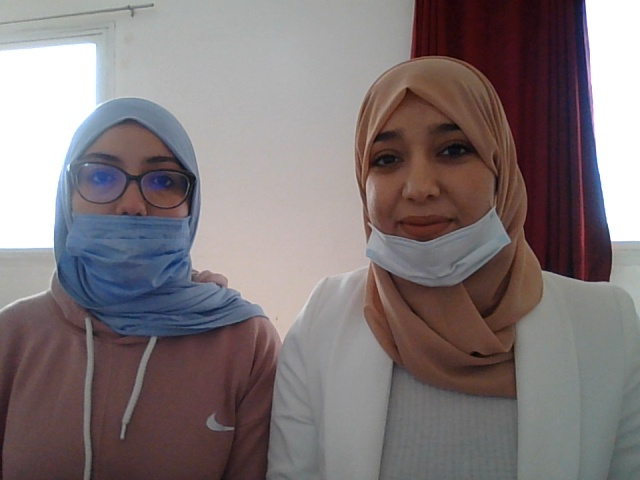mask_weared_incorrect: (337, 65, 542, 305), (58, 103, 213, 314)
